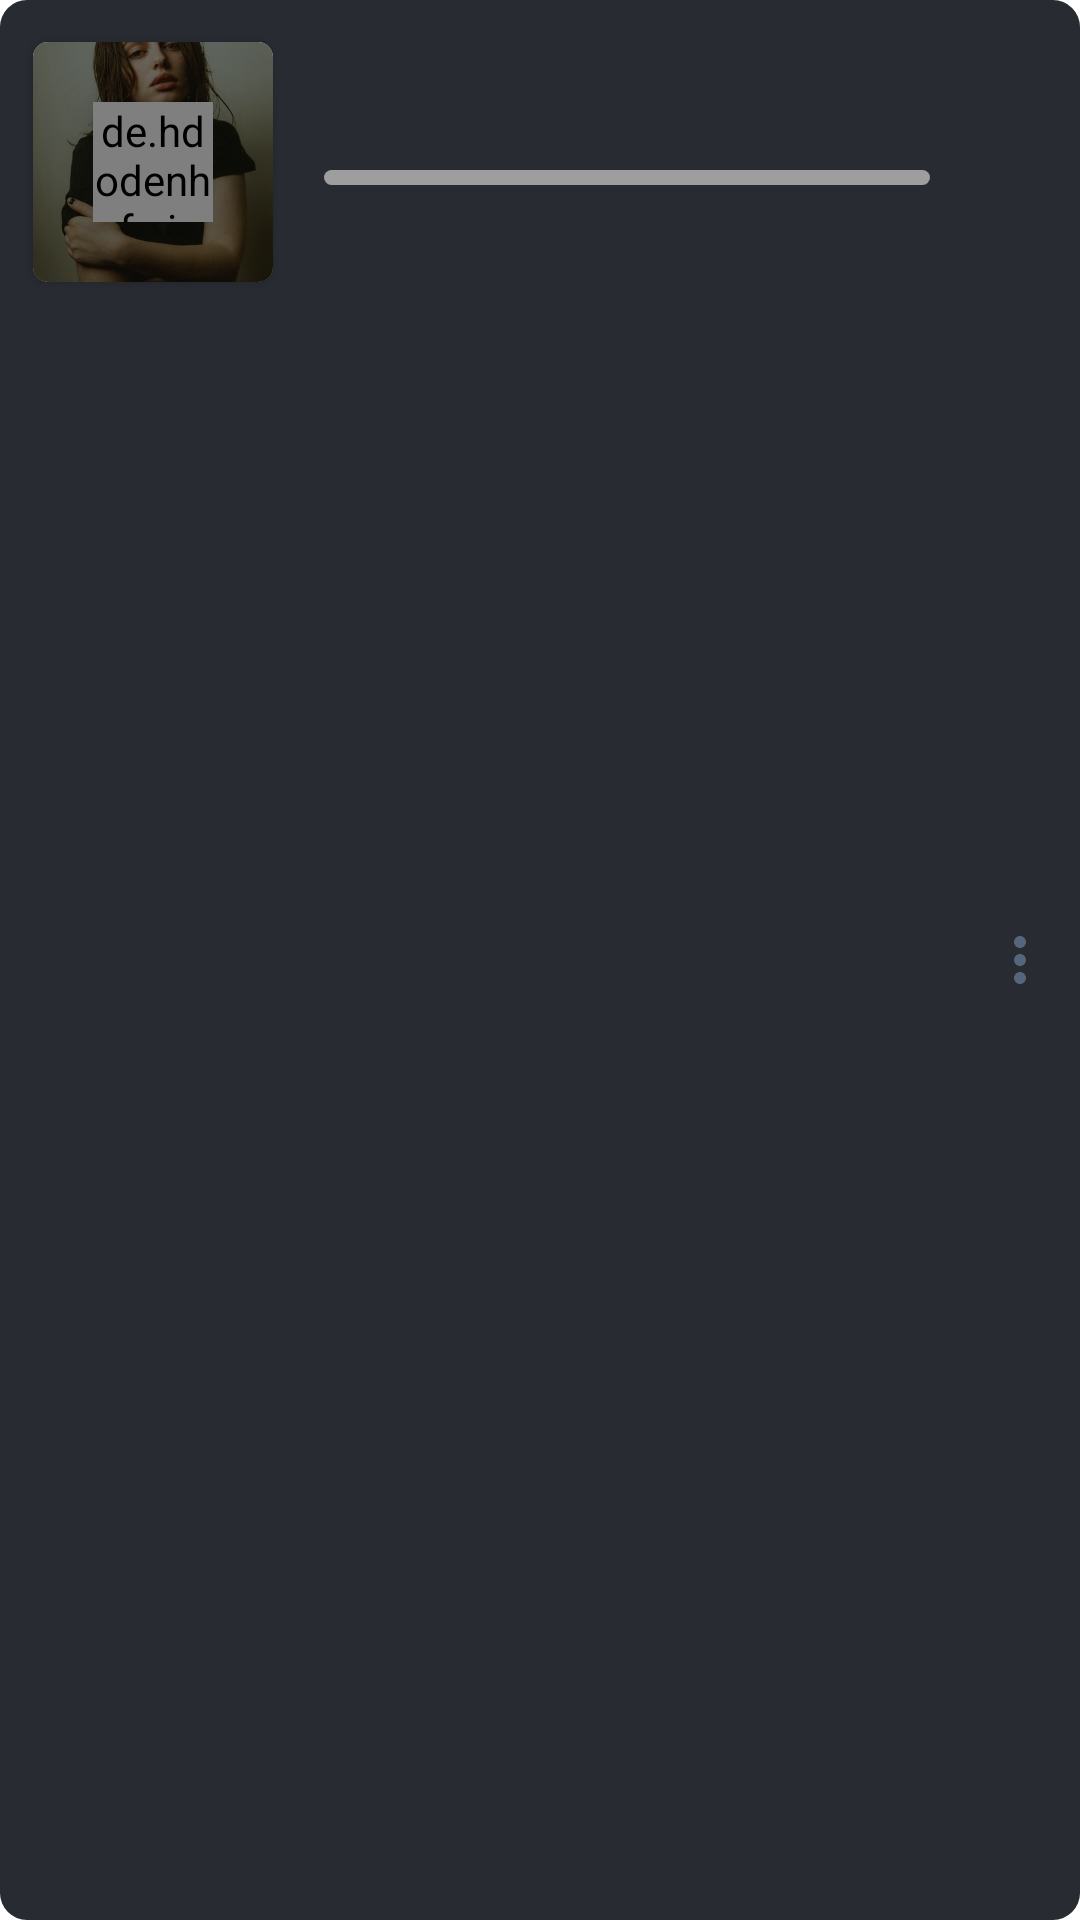

Where to tap for icons on this 1080 x 1920 app screen, as point (x, y):
more vert: point (1020, 960)
